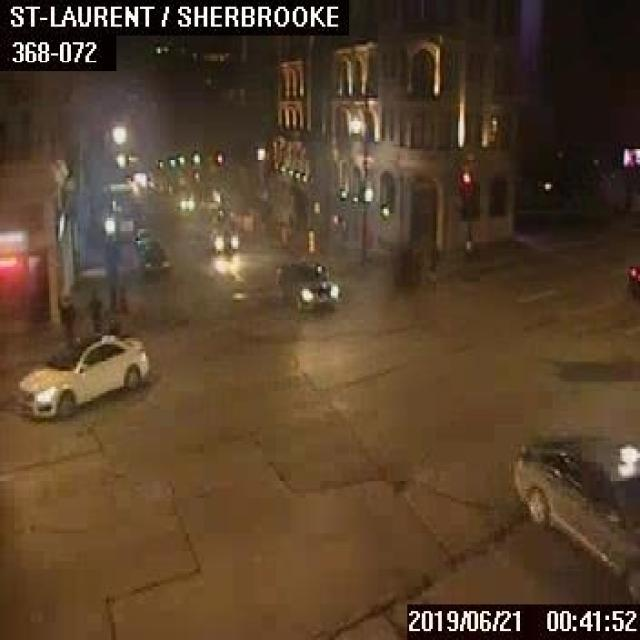pedestrian: (84, 289, 100, 338), (58, 293, 73, 340)
vehicle: (511, 422, 638, 602), (11, 333, 147, 418), (276, 258, 336, 309), (210, 225, 238, 251), (144, 246, 169, 274), (624, 258, 638, 296), (174, 195, 193, 210)
